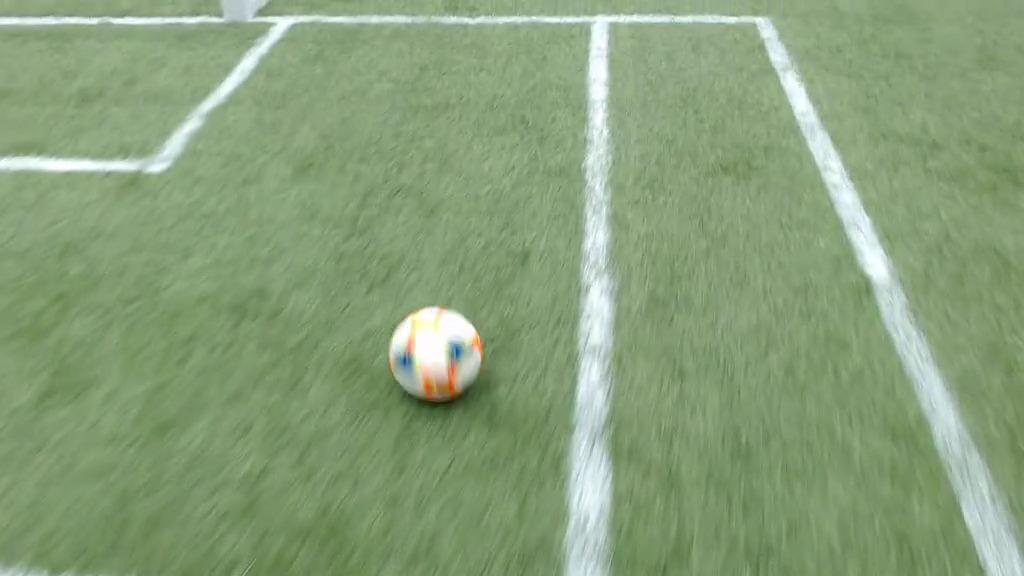ball: (389, 307, 482, 403)
